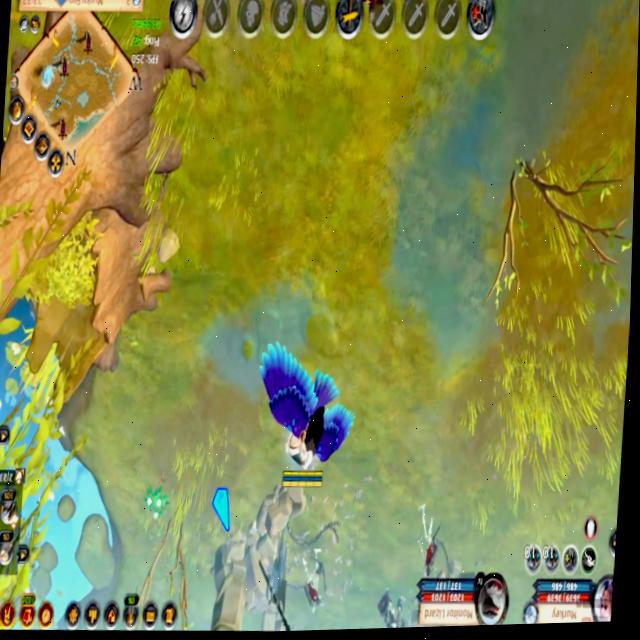hide: (138, 458, 174, 524)
ore: (409, 495, 449, 585), (294, 538, 333, 615), (373, 581, 414, 628), (350, 0, 394, 33)
red: (247, 330, 365, 496)
